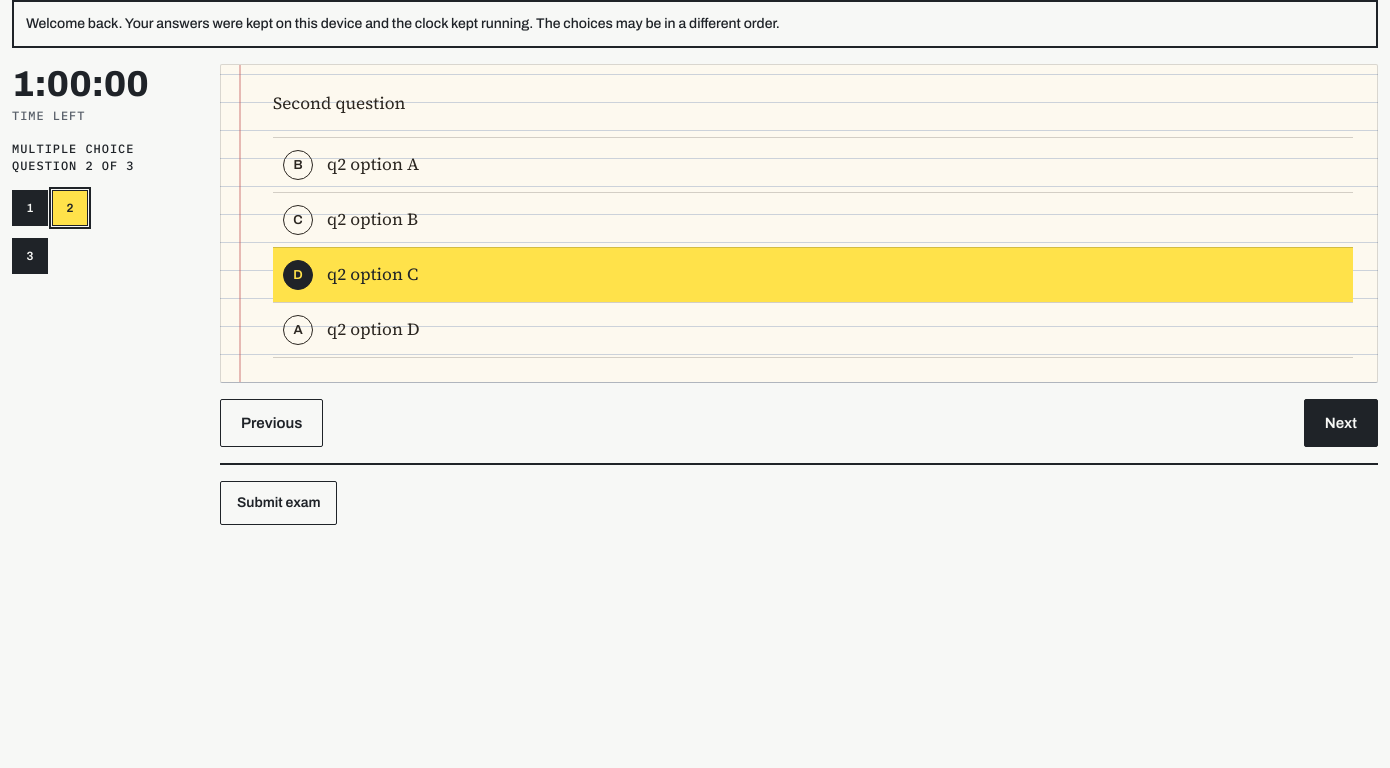
Test: ExamRunner keeps answers across a reload › restores the answers, the question you were on, and says so
The width and height of the screenshot is (1390, 768).
Check: the text "Welcome back" is shown, box left=26, top=16, right=780, bottom=31
Check: the text "Question 2 of 3" is shown, box left=12, top=141, right=134, bottom=173
Step 1. Click the button named "Question 3" → (30, 256), box left=12, top=238, right=48, bottom=274
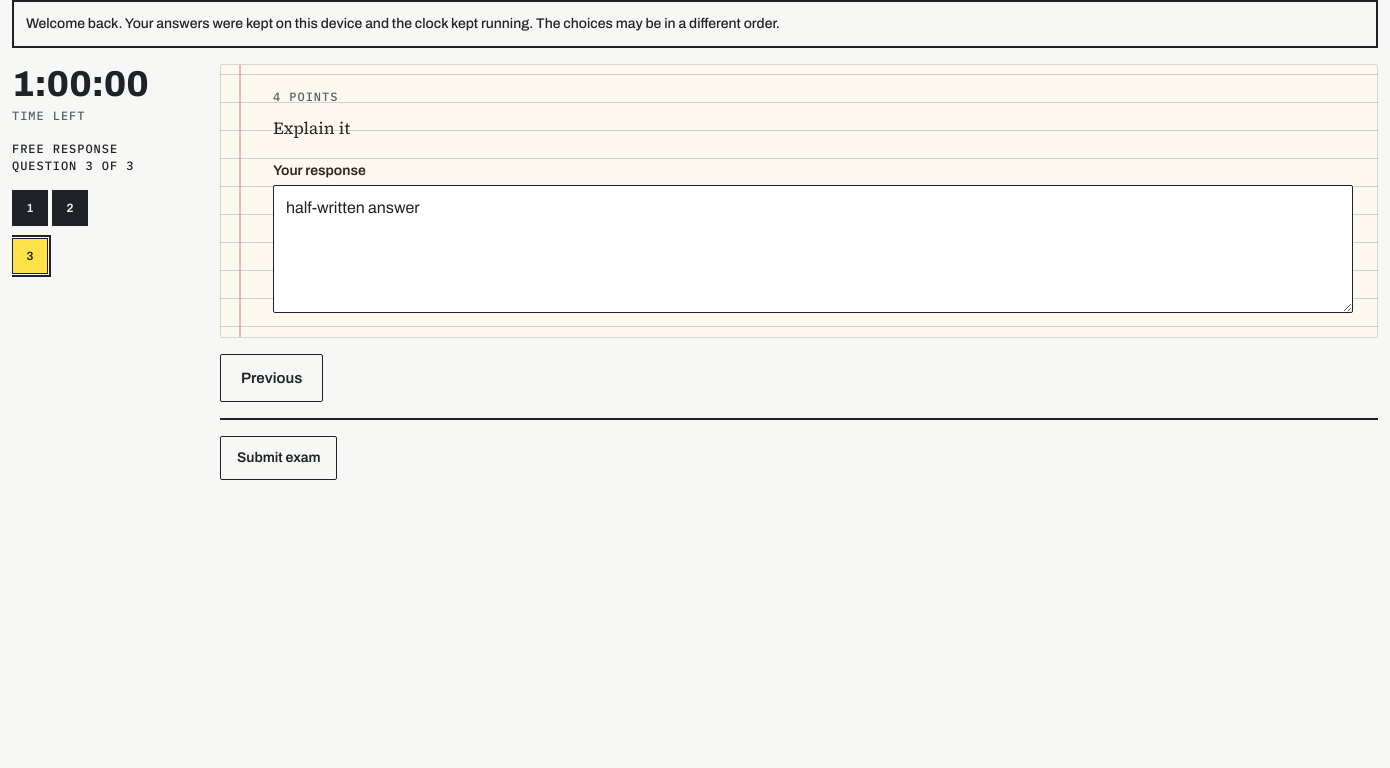
Check: the text box labelled "Your response" holds "half-written answer", box left=273, top=185, right=1353, bottom=313
